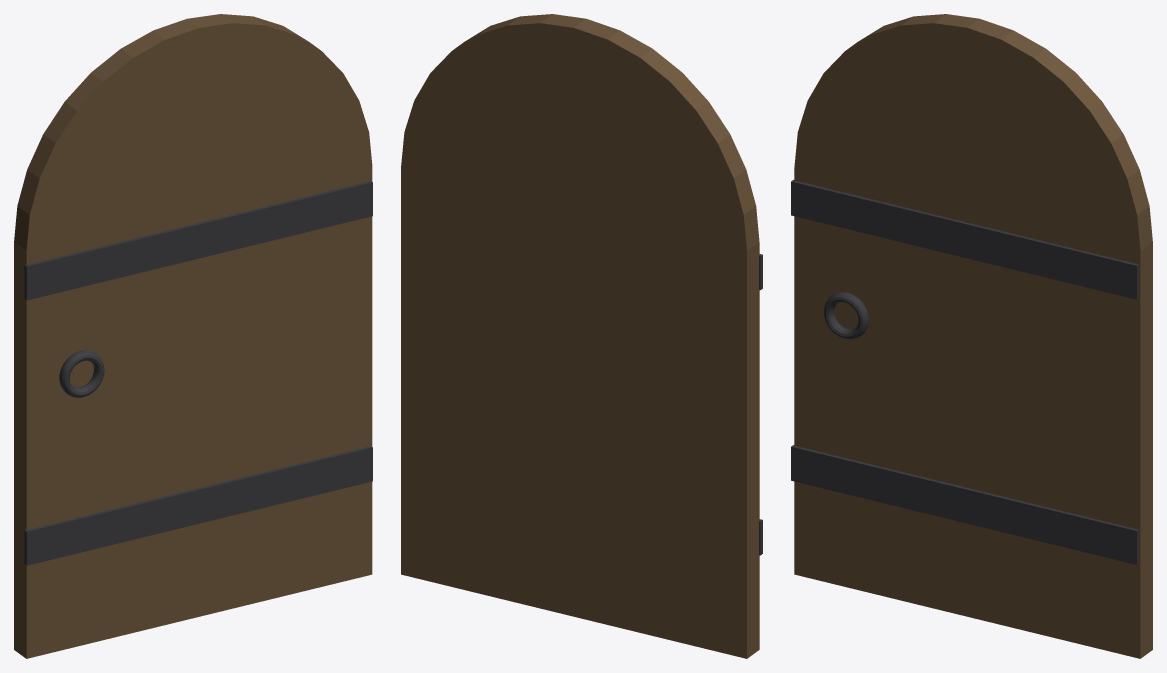
File: wooden-door-banded-rb.glb
3 views of the same model, side by side, from view 1: azimuth 30°, elevation 25°; view 2: azimuth 150°, elevation 25°; view 3: azimuth 330°, elevation 25° (orthographic).
Visible parts, largest first — view 1: door-lower, door-upper, iron-band-1, iron-band-2, iron-ring; view 2: door-upper, door-lower; view 3: door-lower, door-upper, iron-band-1, iron-band-2, iron-ring.
Boxes of the visible parts, box(x1,y1,x2,y2) form: door-lower: box(14, 167, 372, 658); door-upper: box(14, 14, 372, 251); iron-band-1: box(24, 181, 372, 300); iron-band-2: box(24, 446, 372, 565); iron-ring: box(59, 350, 104, 397); door-upper: box(401, 14, 759, 394); door-lower: box(401, 168, 759, 658); door-lower: box(794, 167, 1152, 658); door-upper: box(794, 14, 1152, 251); iron-band-1: box(791, 179, 1138, 299); iron-band-2: box(791, 445, 1138, 564); iron-ring: box(824, 292, 868, 339).
Bounding box in the file's own units: 0.8034 × 1.3 × 0.0694.
